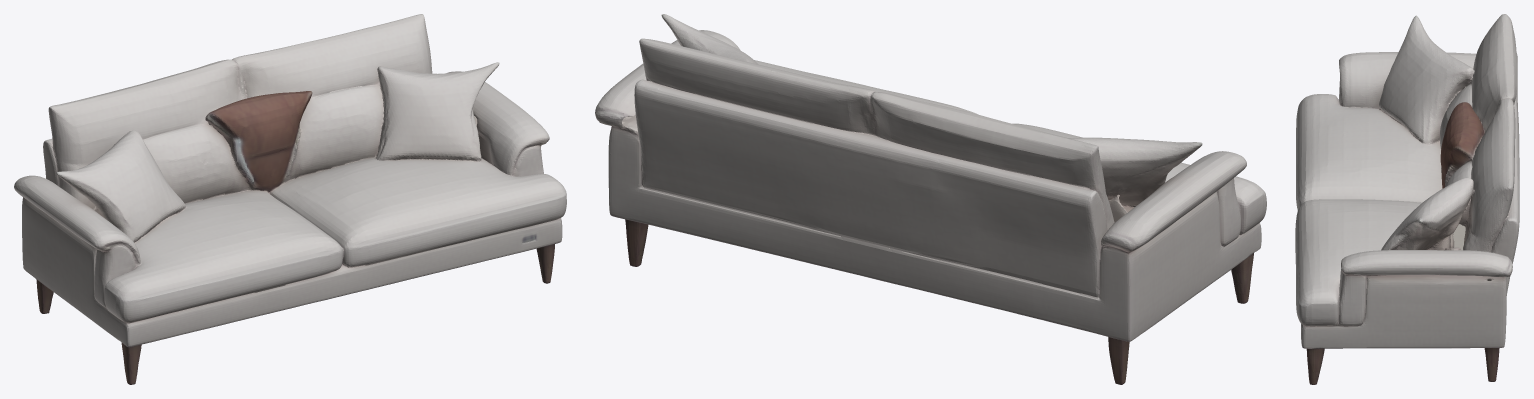
Rendered from armania-sofa-ORIGINAL.glb.
3 renders of one model, left to right at view 1: azimuth 30°, elevation 25°; view 2: azimuth 150°, elevation 25°; view 3: azimuth 270°, elevation 25°, orthographic. The views are drawn at different scales.
Parts seen in each view (by area): view 1: geometry_0; view 2: geometry_0; view 3: geometry_0.
Part boxes in pixels (box(x1,y1,x2,y2)): geometry_0: box(14, 14, 566, 384); geometry_0: box(595, 14, 1266, 384); geometry_0: box(1295, 14, 1519, 384).
Size of the model in its own units: 1 by 0.417 by 0.448.
